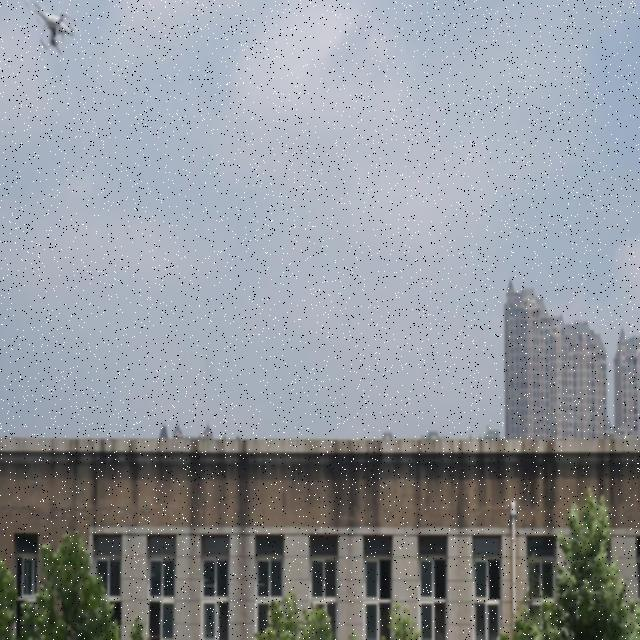UAV: (25, 0, 82, 55)
